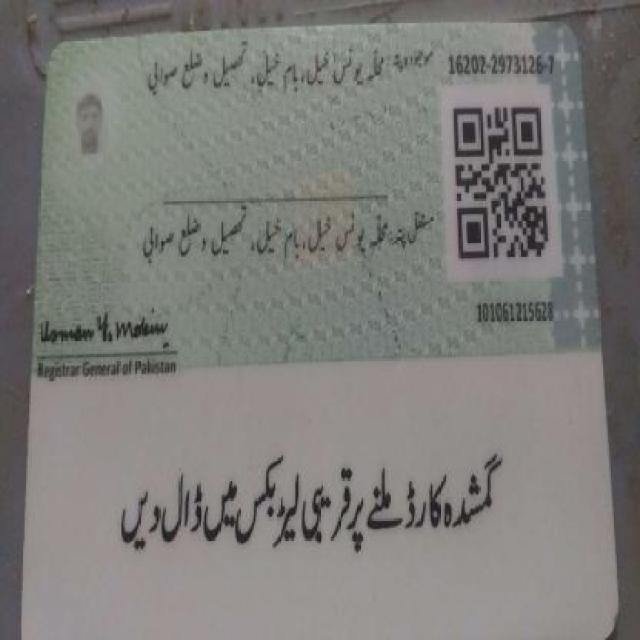Back: (22, 18, 620, 631)
